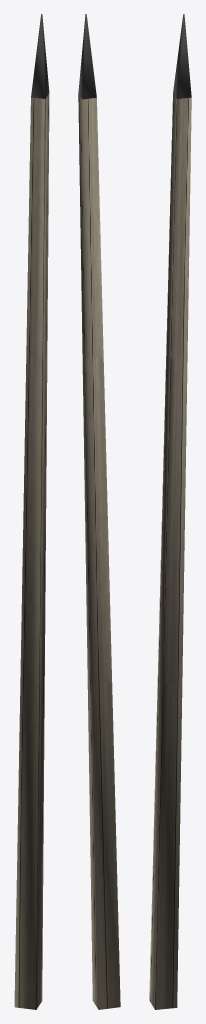
The model's file is Pike_Stake_1_LOD1.gltf.
The picture shows the model from 3 angles, left to right: view 1: azimuth 30°, elevation 25°; view 2: azimuth 150°, elevation 25°; view 3: azimuth 330°, elevation 25°; orthographic projection.
Visible parts, largest first — view 1: Pike_Stake_1_LOD1; view 2: Pike_Stake_1_LOD1; view 3: Pike_Stake_1_LOD1.
Boxes of the visible parts, left/top/right/bottom form: Pike_Stake_1_LOD1: left=14, top=14, right=49, bottom=1009; Pike_Stake_1_LOD1: left=78, top=14, right=120, bottom=1009; Pike_Stake_1_LOD1: left=149, top=14, right=191, bottom=1009.
Size of the model in its own units: 0.125 by 3.05 by 0.095.
Materials: 2 (2 with a texture image).
